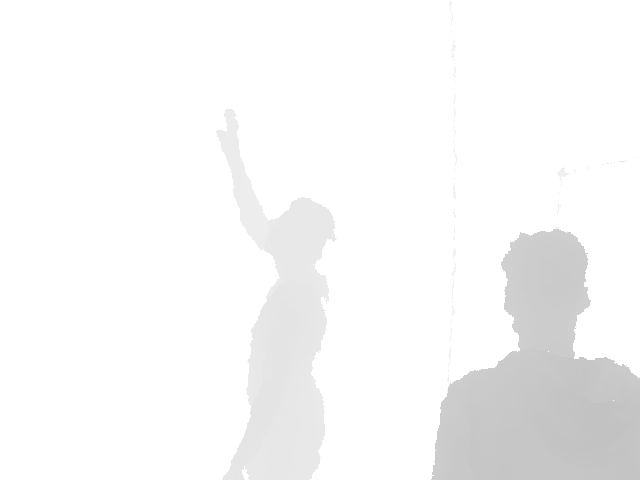hand: (216, 109, 240, 155)
head: (500, 229, 592, 349), (263, 197, 335, 274)
person: (427, 229, 640, 480), (214, 109, 336, 480)
